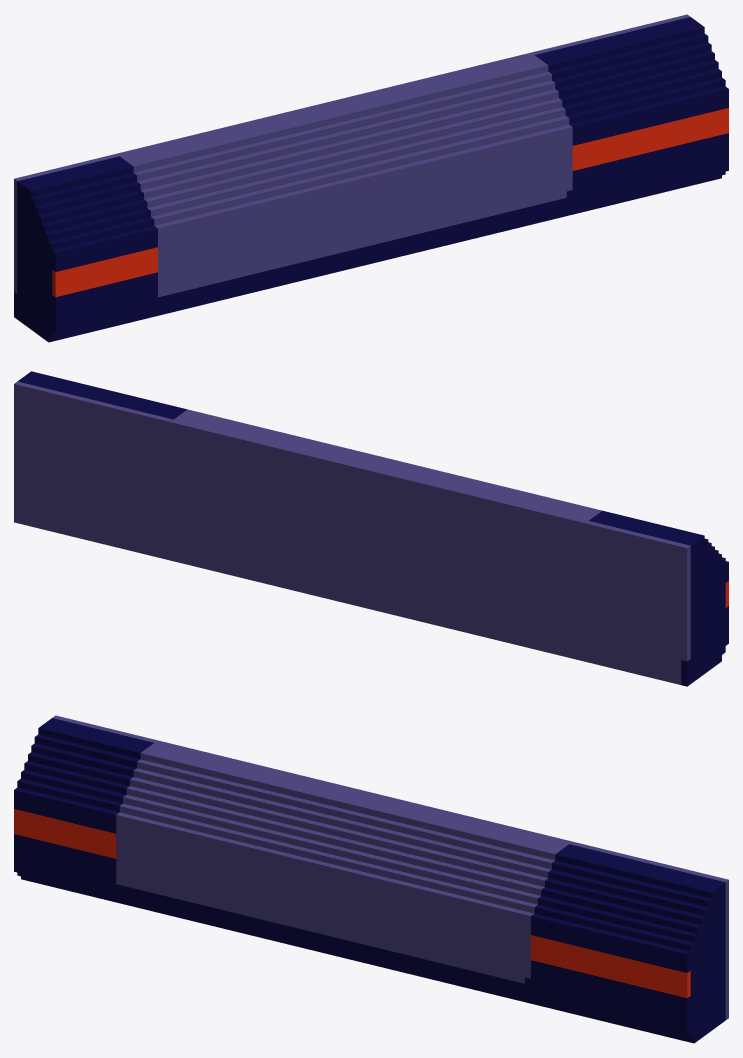
Rendered from escena nave interior-6-navedelantera.obj.
3 views of the same model, one above another, from view 1: azimuth 30°, elevation 25°; view 2: azimuth 150°, elevation 25°; view 3: azimuth 330°, elevation 25° (orthographic).
Parts seen in each view (by area): view 1: navedelantera; view 2: navedelantera; view 3: navedelantera.
Boxes of the visible parts, x1=… form: navedelantera: x1=14, y1=14, x2=728, y2=342; navedelantera: x1=14, y1=371, x2=728, y2=686; navedelantera: x1=14, y1=715, x2=728, y2=1043.
Size of the model in its own units: 11.2 by 2.2 by 1.2.
Materials: 1 (1 with a texture image).
